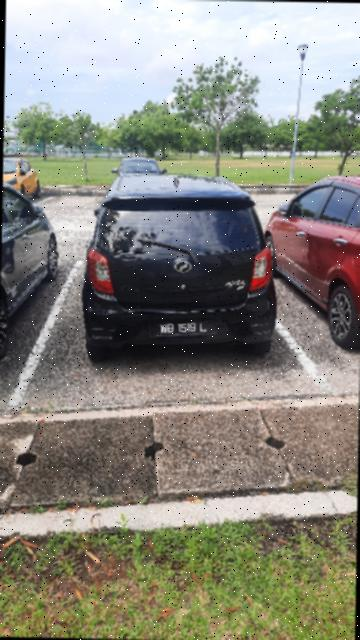License_Plate: (149, 313, 218, 341)
car: (75, 168, 282, 360)
